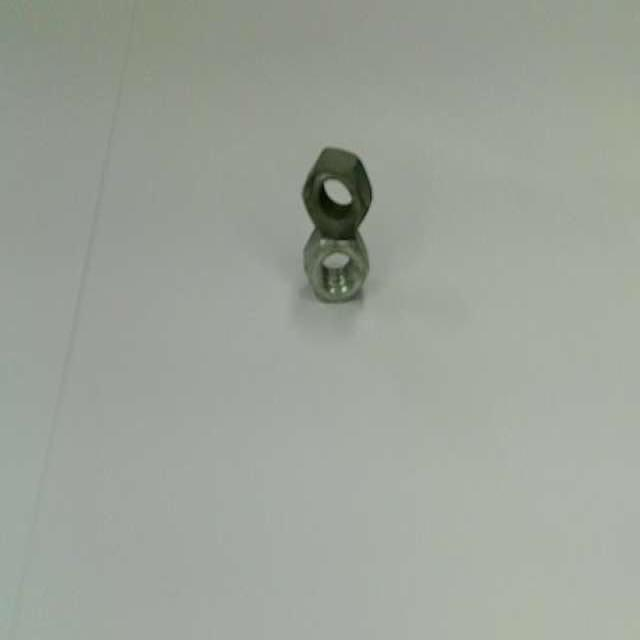Porca: (303, 148, 372, 237), (305, 228, 368, 300)
